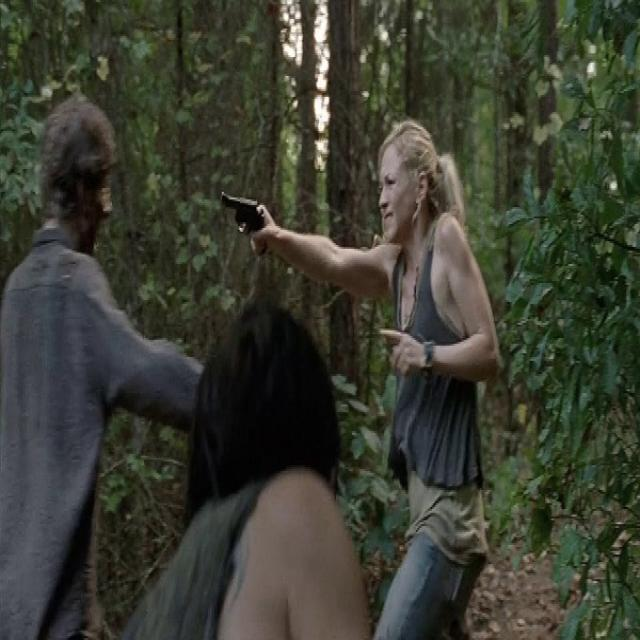weapons: (213, 169, 282, 280)
